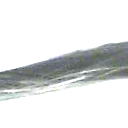crackTip: (1, 42, 128, 102)
